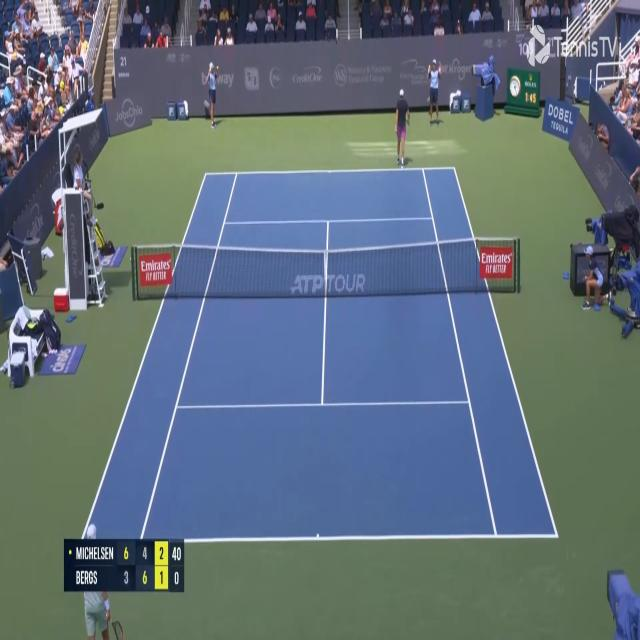tennis-player: (394, 87, 411, 169)
